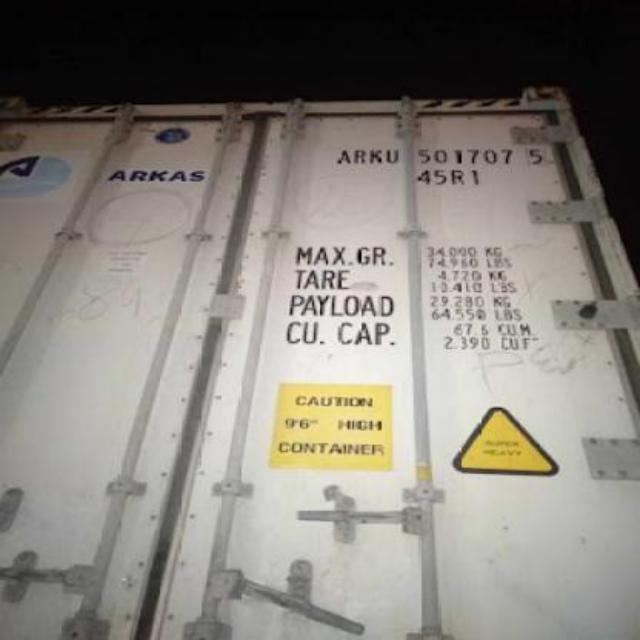0: (434, 149, 448, 165), (484, 149, 498, 165)
1: (454, 147, 462, 163)
5: (416, 148, 432, 164), (530, 149, 544, 165)
7: (468, 147, 480, 165), (501, 149, 514, 165)
A: (336, 149, 352, 165)
K: (370, 149, 382, 165)
R: (354, 149, 366, 165)
U: (386, 149, 399, 165)
